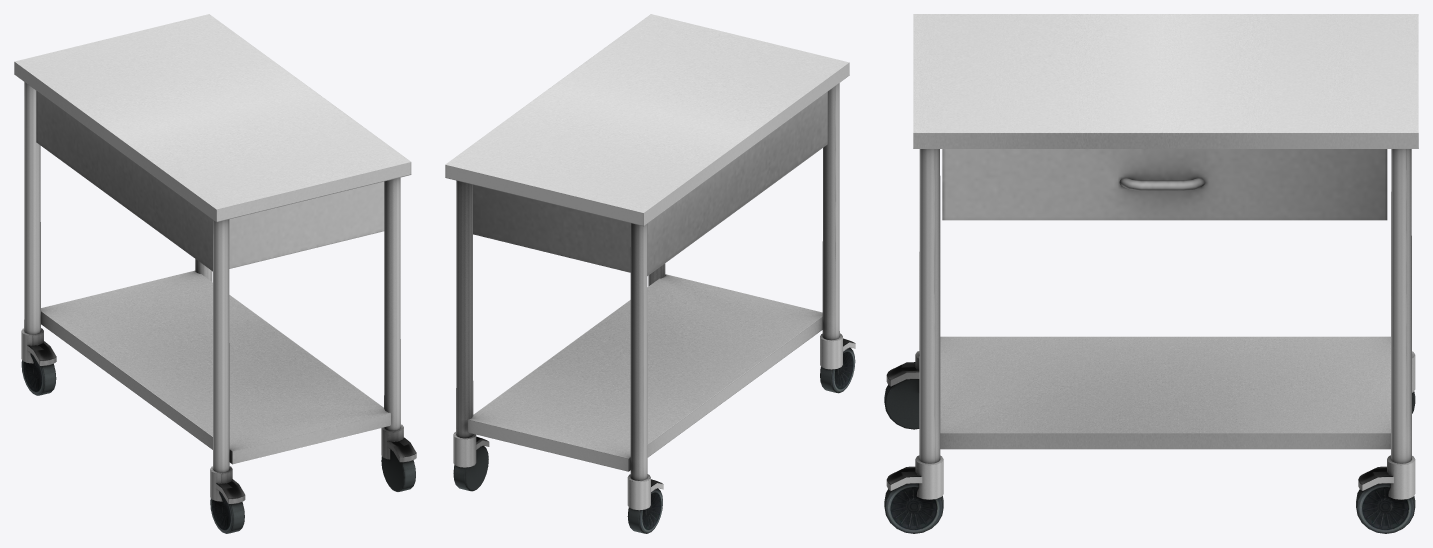
Rendered from SmallCart.fbx.
The picture shows the model from 3 angles, left to right: view 1: azimuth 30°, elevation 25°; view 2: azimuth 150°, elevation 25°; view 3: azimuth 270°, elevation 25°; orthographic projection. The views are drawn at different scales.
Visible parts, largest first — view 1: SmallCartFrame, SmallCartDrawer, SmallCartWhee1, SmallCartWheel2, SmallCartWheel3, polySurface585, polySurface587, polySurface593; view 2: SmallCartFrame, SmallCartDrawer, SmallCartWheel4, SmallCartWheel2, SmallCartWheel3, polySurface585, polySurface591, polySurface587; view 3: SmallCartFrame, SmallCartDrawer, SmallCartWheel4, SmallCartWhee1, polySurface591, polySurface593, SmallCartWheel2, polySurface587.
Part boxes in pixels (bbox=[...]): SmallCartFrame: bbox=[14, 14, 411, 472]; SmallCartDrawer: bbox=[36, 91, 384, 271]; SmallCartWhee1: bbox=[381, 449, 415, 491]; SmallCartWheel2: bbox=[210, 491, 244, 533]; SmallCartWheel3: bbox=[21, 353, 56, 395]; polySurface585: bbox=[21, 328, 56, 365]; polySurface587: bbox=[210, 466, 245, 503]; polySurface593: bbox=[381, 424, 416, 462]; SmallCartFrame: bbox=[445, 14, 849, 480]; SmallCartDrawer: bbox=[473, 91, 827, 275]; SmallCartWheel4: bbox=[453, 445, 488, 491]; SmallCartWheel2: bbox=[820, 347, 855, 393]; SmallCartWheel3: bbox=[627, 488, 662, 533]; polySurface585: bbox=[627, 474, 663, 510]; polySurface591: bbox=[453, 432, 489, 467]; polySurface587: bbox=[820, 333, 855, 369]; SmallCartFrame: bbox=[913, 14, 1418, 463]; SmallCartDrawer: bbox=[942, 149, 1387, 220]; SmallCartWheel4: bbox=[1356, 483, 1415, 533]; SmallCartWhee1: bbox=[884, 483, 943, 533]; polySurface591: bbox=[1358, 455, 1415, 499]; polySurface593: bbox=[886, 455, 943, 499]; SmallCartWheel2: bbox=[884, 379, 919, 429]; polySurface587: bbox=[886, 351, 919, 386].
Bounding box in the file's own units: 52.39 × 83.03 × 99.05.
Materials: 1 (1 with a texture image).
